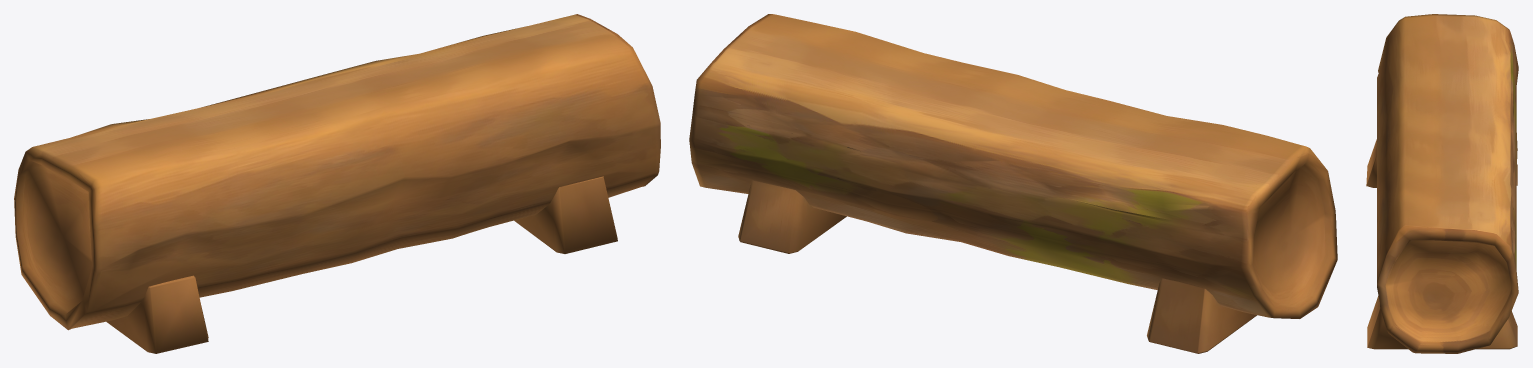
File: journal_log.glb
3 renders of one model, left to right at view 1: azimuth 30°, elevation 25°; view 2: azimuth 150°, elevation 25°; view 3: azimuth 270°, elevation 25°, orthographic. The views are drawn at different scales.
Parts seen in each view (by area): view 1: tripo_node_9a611fe1-9ec7-4734-a897-fa909f7a11d0; view 2: tripo_node_9a611fe1-9ec7-4734-a897-fa909f7a11d0; view 3: tripo_node_9a611fe1-9ec7-4734-a897-fa909f7a11d0.
Part boxes in pixels (x1=…): tripo_node_9a611fe1-9ec7-4734-a897-fa909f7a11d0: x1=14, y1=14, x2=660, y2=353; tripo_node_9a611fe1-9ec7-4734-a897-fa909f7a11d0: x1=689, y1=14, x2=1337, y2=353; tripo_node_9a611fe1-9ec7-4734-a897-fa909f7a11d0: x1=1366, y1=14, x2=1518, y2=353.
Size of the model in its own units: 0.998 by 0.2832 by 0.2832.
1 material, 1 textured.
